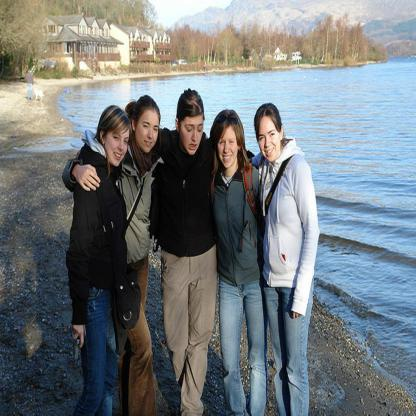face: (105, 121, 131, 167), (136, 110, 159, 154), (259, 117, 281, 162), (181, 114, 204, 156), (218, 127, 239, 169)
